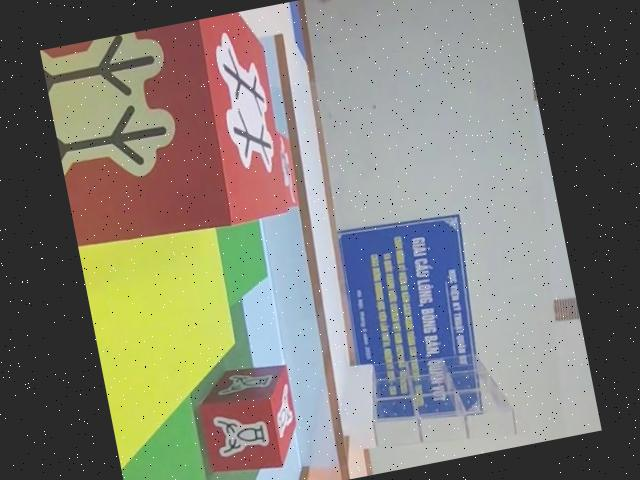R2 Real: (39, 8, 300, 260), (187, 359, 309, 480)
